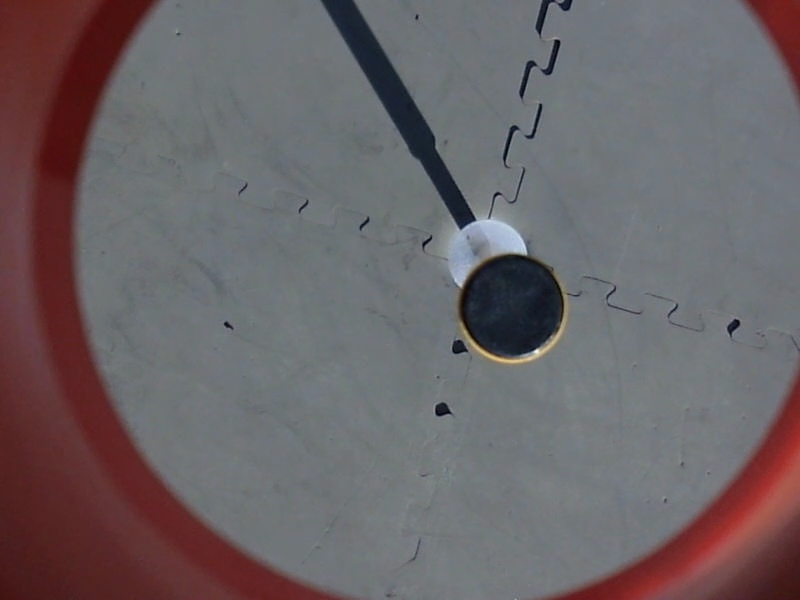tip: (453, 247, 575, 367)
